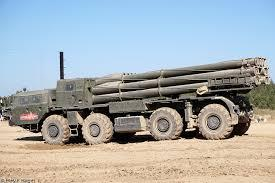MIL_SAM_TEL: (11, 56, 270, 144)
